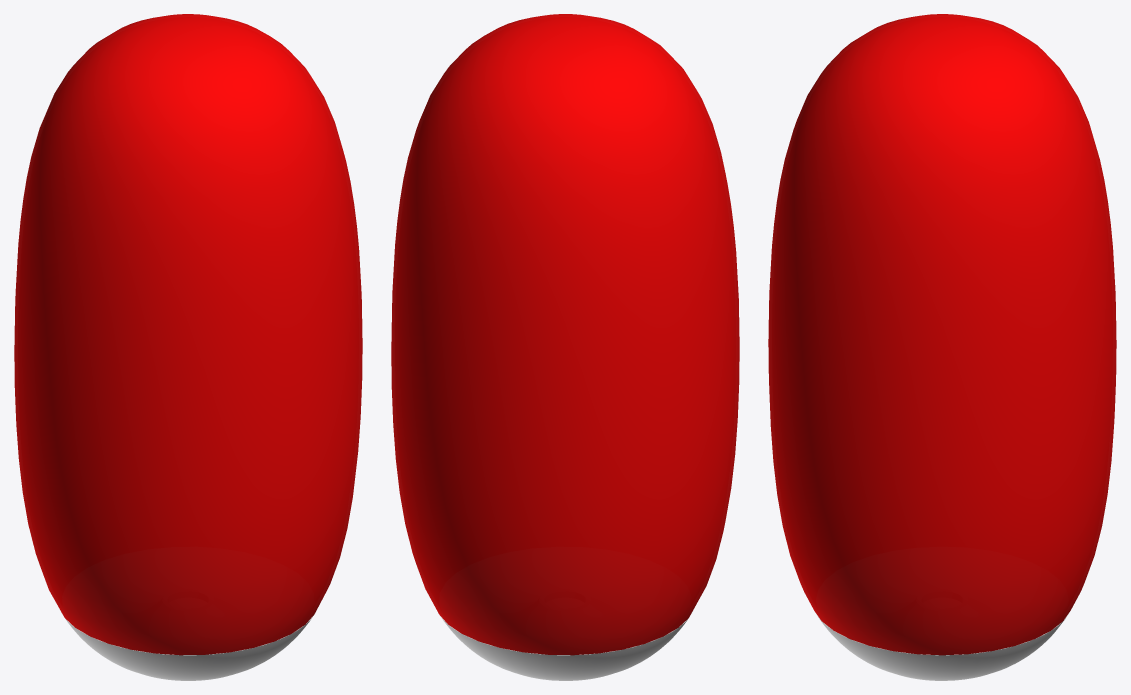
File: lanterna.glb
The picture shows the model from 3 angles, left to right: view 1: azimuth 30°, elevation 25°; view 2: azimuth 150°, elevation 25°; view 3: azimuth 270°, elevation 25°; orthographic projection.
Parts seen in each view (by area): view 1: Body004, Body001; view 2: Body004, Body001; view 3: Body004, Body001.
Part boxes in pixels (x1=…): Body004: x1=14, y1=14, x2=362, y2=655; Body001: x1=60, y1=610, x2=312, y2=680; Body004: x1=391, y1=14, x2=739, y2=655; Body001: x1=440, y1=609, x2=693, y2=680; Body004: x1=768, y1=14, x2=1116, y2=655; Body001: x1=815, y1=612, x2=1069, y2=680.
Bounding box in the file's own units: 0.4999 × 1 × 0.4992.
